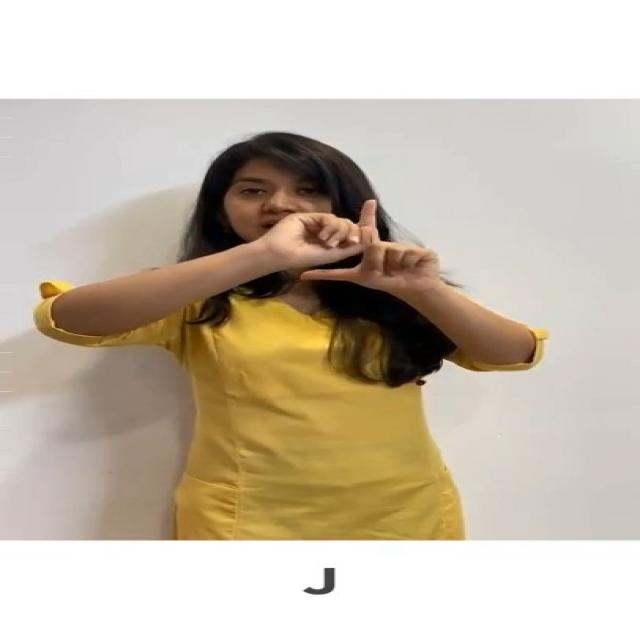J: (253, 188, 458, 305)
